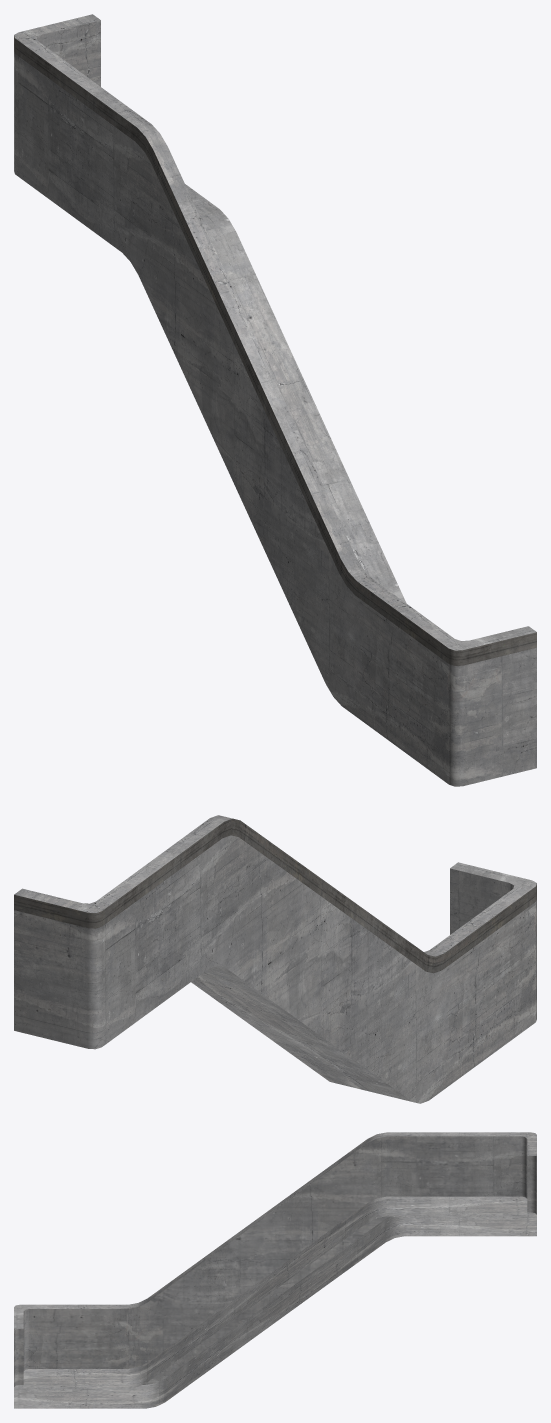
The model's file is CP_Wall_Ladder.fbx.
3 renders of one model, top to bottom at view 1: azimuth 30°, elevation 25°; view 2: azimuth 150°, elevation 25°; view 3: azimuth 270°, elevation 25°, orthographic. The views are drawn at different scales.
Parts seen in each view (by area): view 1: CP_Wall_Ladder; view 2: CP_Wall_Ladder; view 3: CP_Wall_Ladder.
Part boxes in pixels (x1=…): CP_Wall_Ladder: x1=14, y1=14, x2=536, y2=786; CP_Wall_Ladder: x1=14, y1=815, x2=536, y2=1103; CP_Wall_Ladder: x1=14, y1=1132, x2=536, y2=1408.
Size of the model in its own units: 88.87 by 439 by 825.
